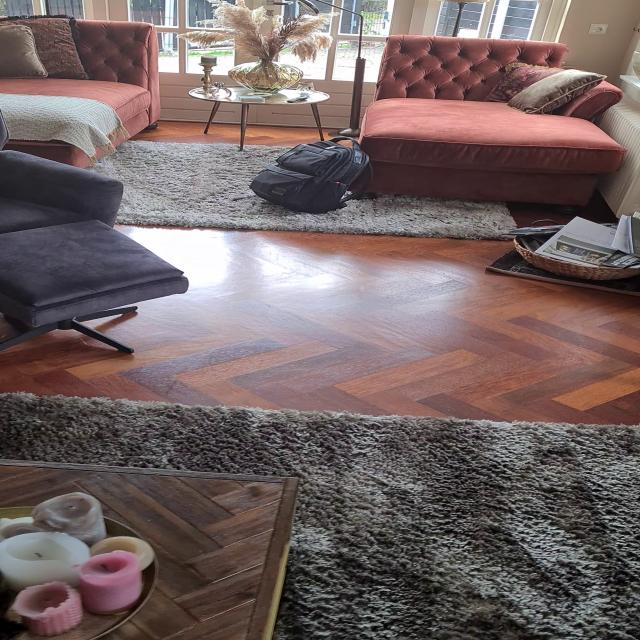backpack: (245, 136, 377, 215)
